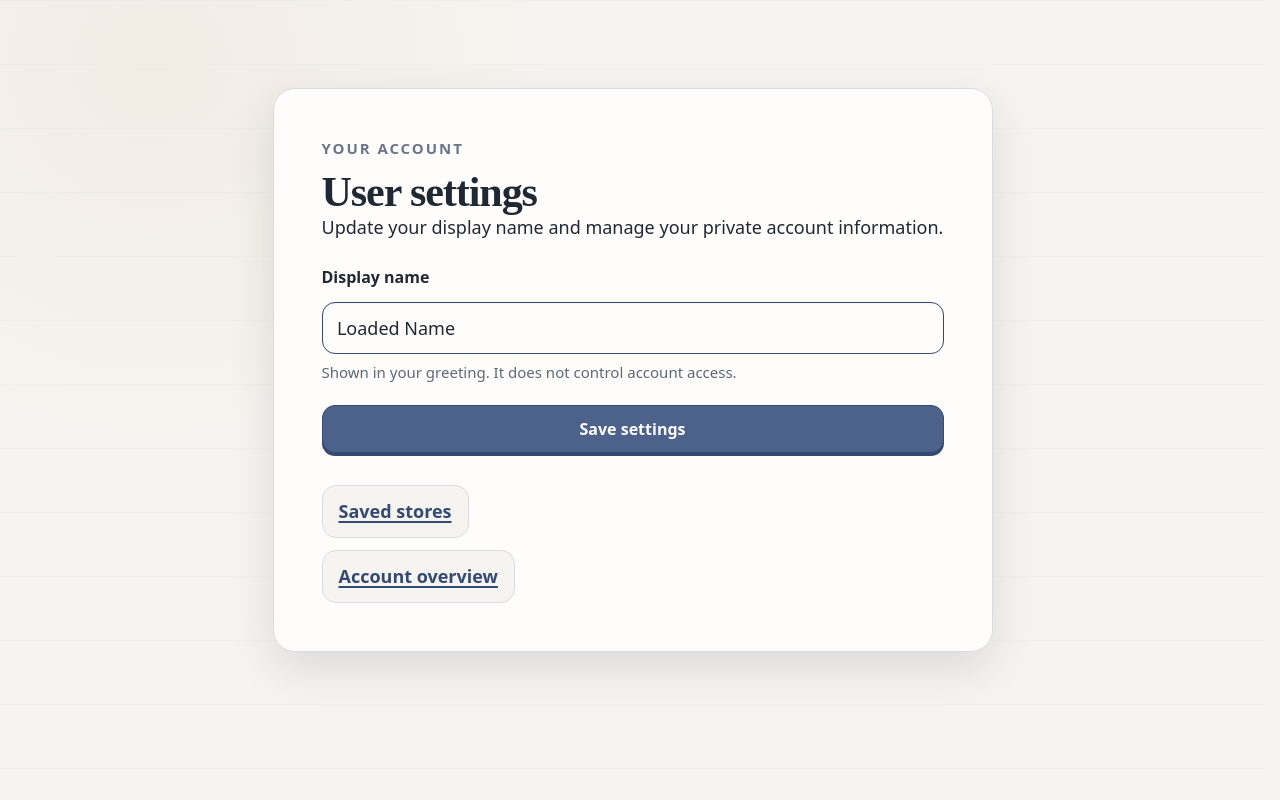
Scenario: UserSettingsPage › does not change provider identity when the settings write fails
Replace the text in the field labelled "Display name" with "Avery": (632,328) [322, 302, 944, 354]
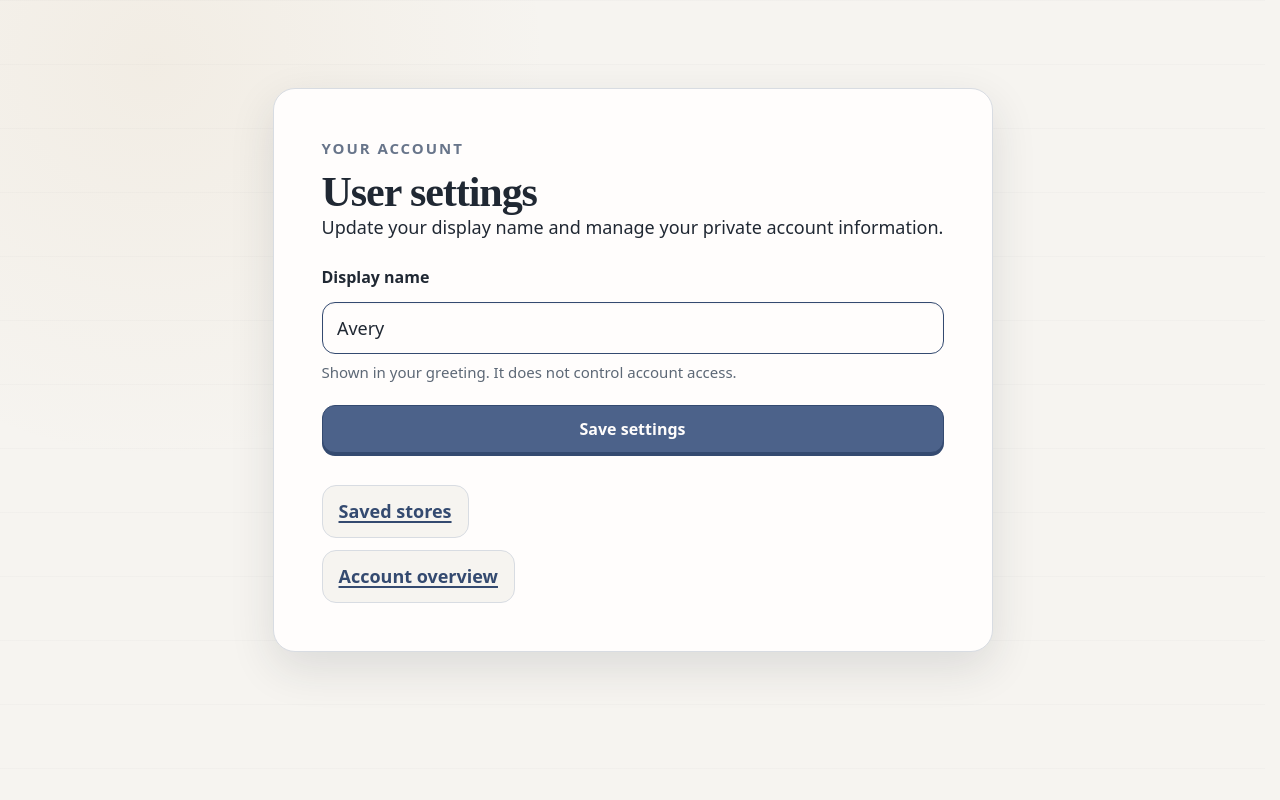
Click the button "Save settings": (632,429) [322, 405, 944, 453]
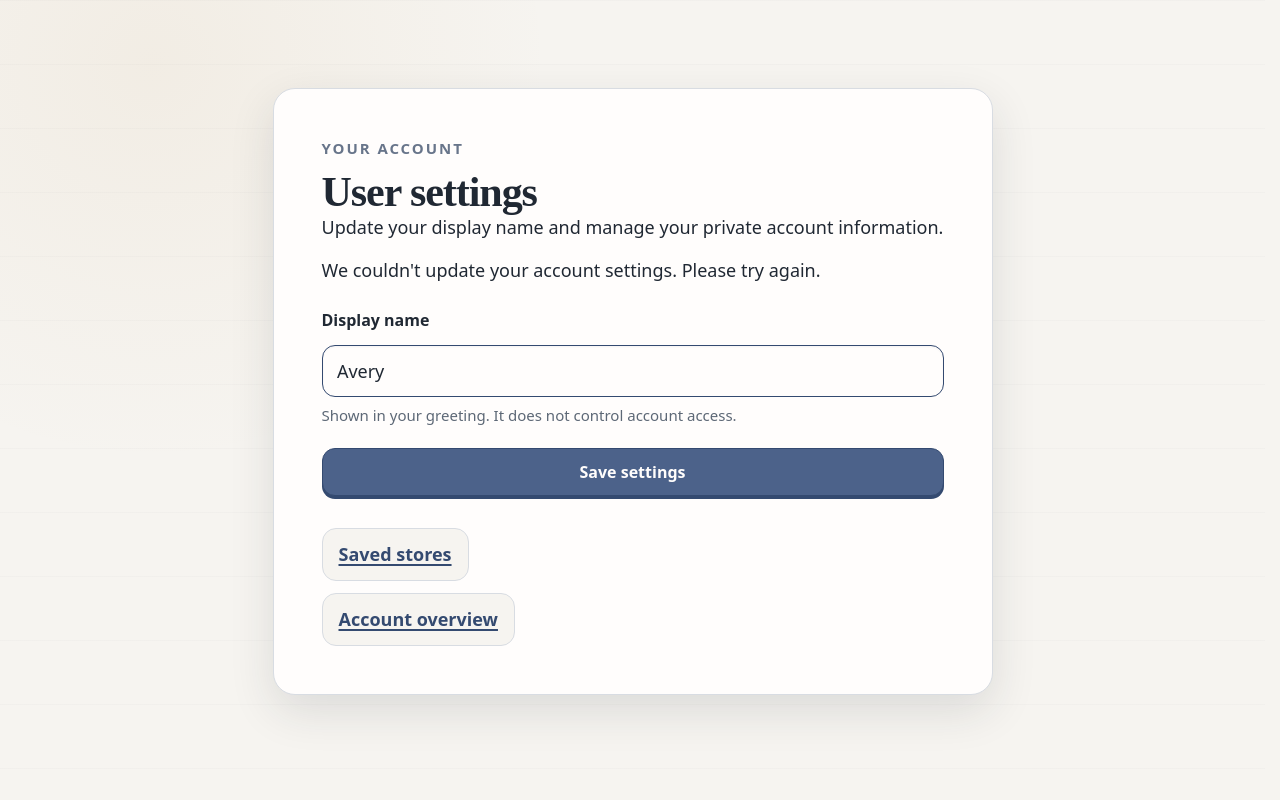
Result: the message reads "We couldn't update your account settings. Please try again." at [322, 258, 821, 282]
